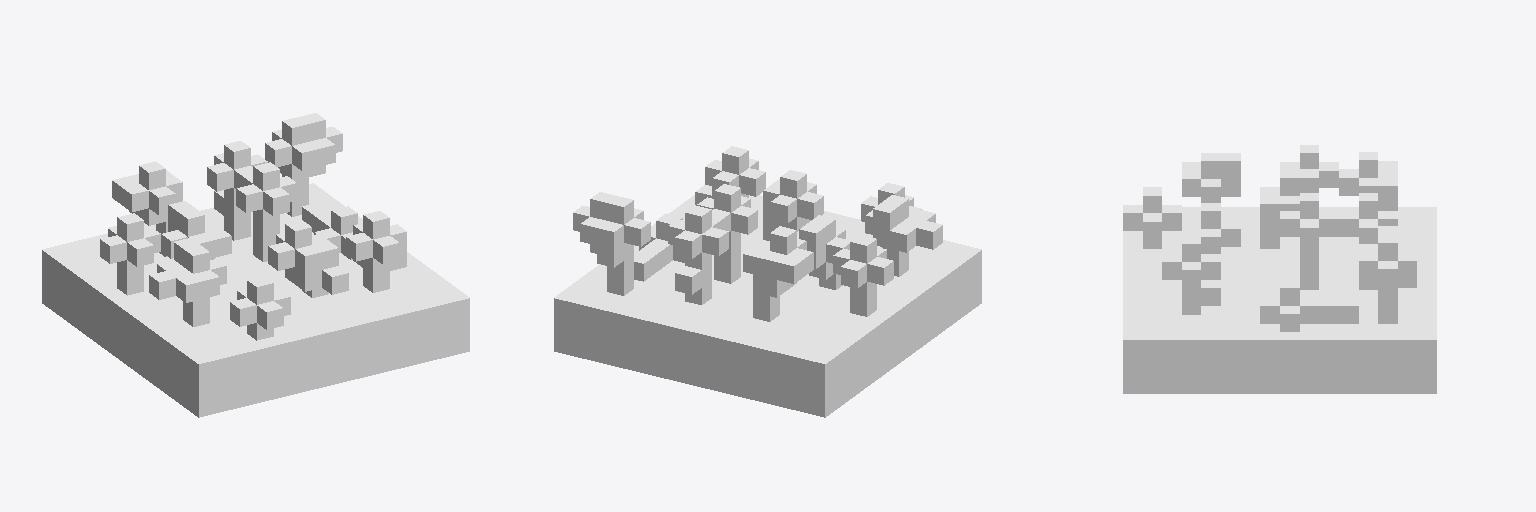
Rendered from forest.obj.
3 renders of one model, left to right at view 1: azimuth 30°, elevation 25°; view 2: azimuth 150°, elevation 25°; view 3: azimuth 270°, elevation 25°, orthographic.
Parts seen in each view (by area): view 1: Forest1; view 2: Forest1; view 3: Forest1.
Part boxes in pixels (x1,y1,x2,y2): Forest1: (42,113,469,417); Forest1: (554,146,981,417); Forest1: (1123,145,1436,393).
Size of the model in its own units: 16 by 8 by 16.